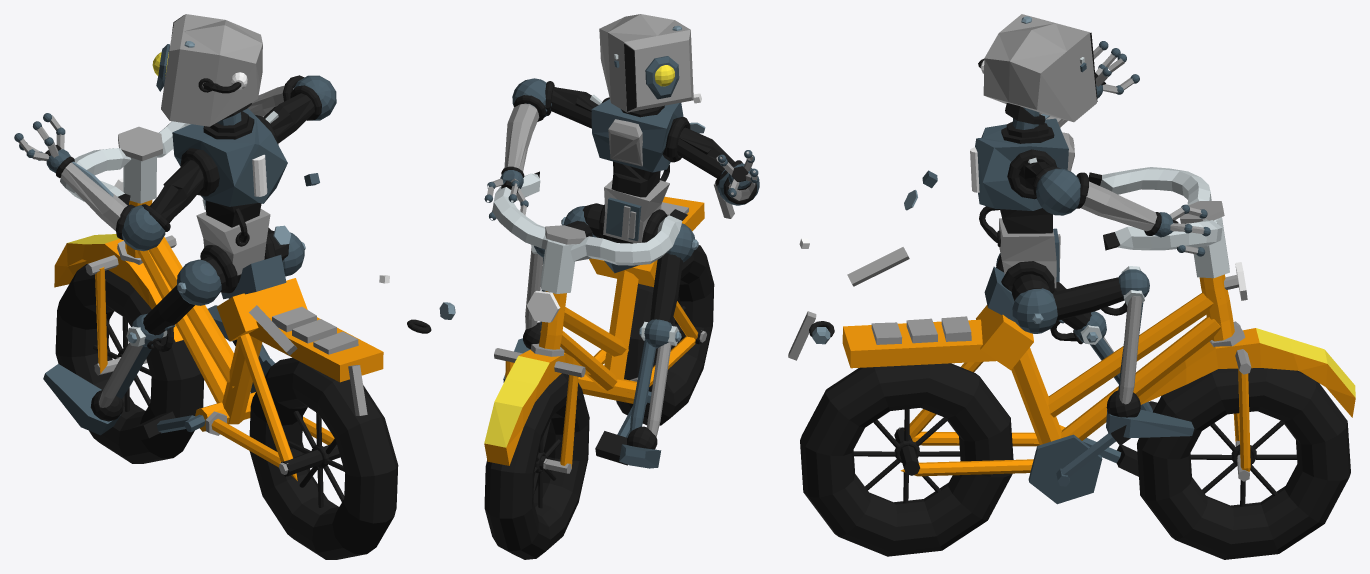
File: cyclist.glb
The picture shows the model from 3 angles, left to right: view 1: azimuth 30°, elevation 25°; view 2: azimuth 150°, elevation 25°; view 3: azimuth 270°, elevation 25°; orthographic projection. The views are drawn at different scales.
Visible parts, largest first — view 1: group504862031, group762487646, group154473401, group1219459917, group1070487205, group1095065454; view 2: group504862031, group762487646, group154473401, group1219459917, group1095065454, group1070487205; view 3: group504862031, group762487646, group154473401, group1219459917, group1095065454, group1070487205.
Part boxes in pixels (box(x1,y1,x2,y2)): group504862031: box(45, 15, 431, 559); group762487646: box(54, 52, 383, 480); group154473401: box(18, 14, 367, 474); group1219459917: box(14, 44, 336, 435); group1070487205: box(72, 41, 455, 343); group1095065454: box(114, 72, 389, 283); group504862031: box(484, 43, 756, 559); group762487646: box(484, 54, 704, 468); group154473401: box(487, 14, 757, 473); group1219459917: box(484, 56, 759, 468); group1095065454: box(526, 93, 701, 322); group1070487205: box(561, 25, 705, 341); group504862031: box(800, 32, 1350, 559); group762487646: box(842, 57, 1355, 476); group154473401: box(788, 14, 1251, 481); group1219459917: box(922, 41, 1210, 504); group1095065454: box(799, 60, 1247, 300); group1070487205: box(812, 16, 1098, 344).
Bounding box in the file's own units: 0.9358 × 1.54 × 1.52.
